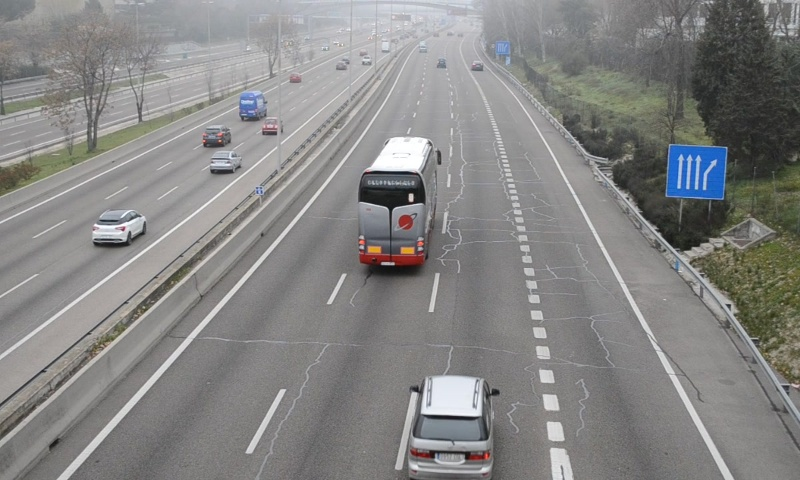bus: (358, 136, 435, 269)
car: (406, 374, 499, 480), (470, 59, 484, 72)
